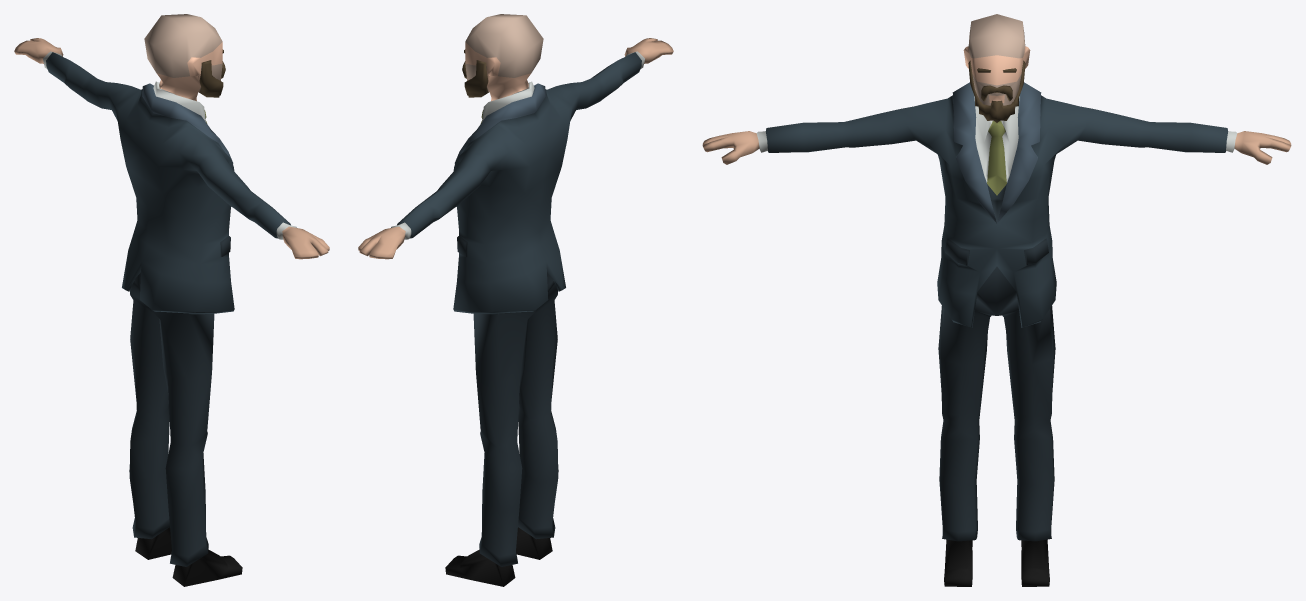
The model's file is Lem.fbx.
3 renders of one model, left to right at view 1: azimuth 30°, elevation 25°; view 2: azimuth 150°, elevation 25°; view 3: azimuth 270°, elevation 25°, orthographic.
Parts seen in each view (by area): view 1: SM_Chr_Business_Male_01; view 2: SM_Chr_Business_Male_01; view 3: SM_Chr_Business_Male_01.
Part boxes in pixels (bbox=[...]): SM_Chr_Business_Male_01: bbox=[14, 14, 329, 586]; SM_Chr_Business_Male_01: bbox=[358, 14, 673, 586]; SM_Chr_Business_Male_01: bbox=[702, 14, 1291, 586].
Size of the model in its own units: 70.33 by 408 by 395.
1 material, 1 textured.
